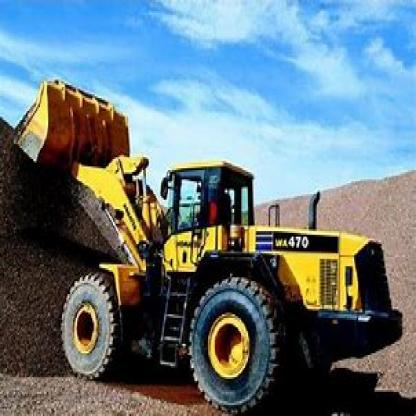bull_dozer/loader/grader: (8, 65, 405, 412)
